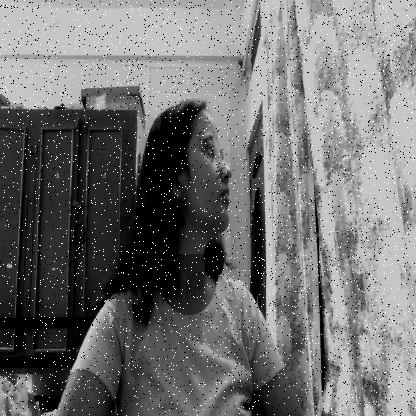Distracted: (144, 94, 230, 254)
